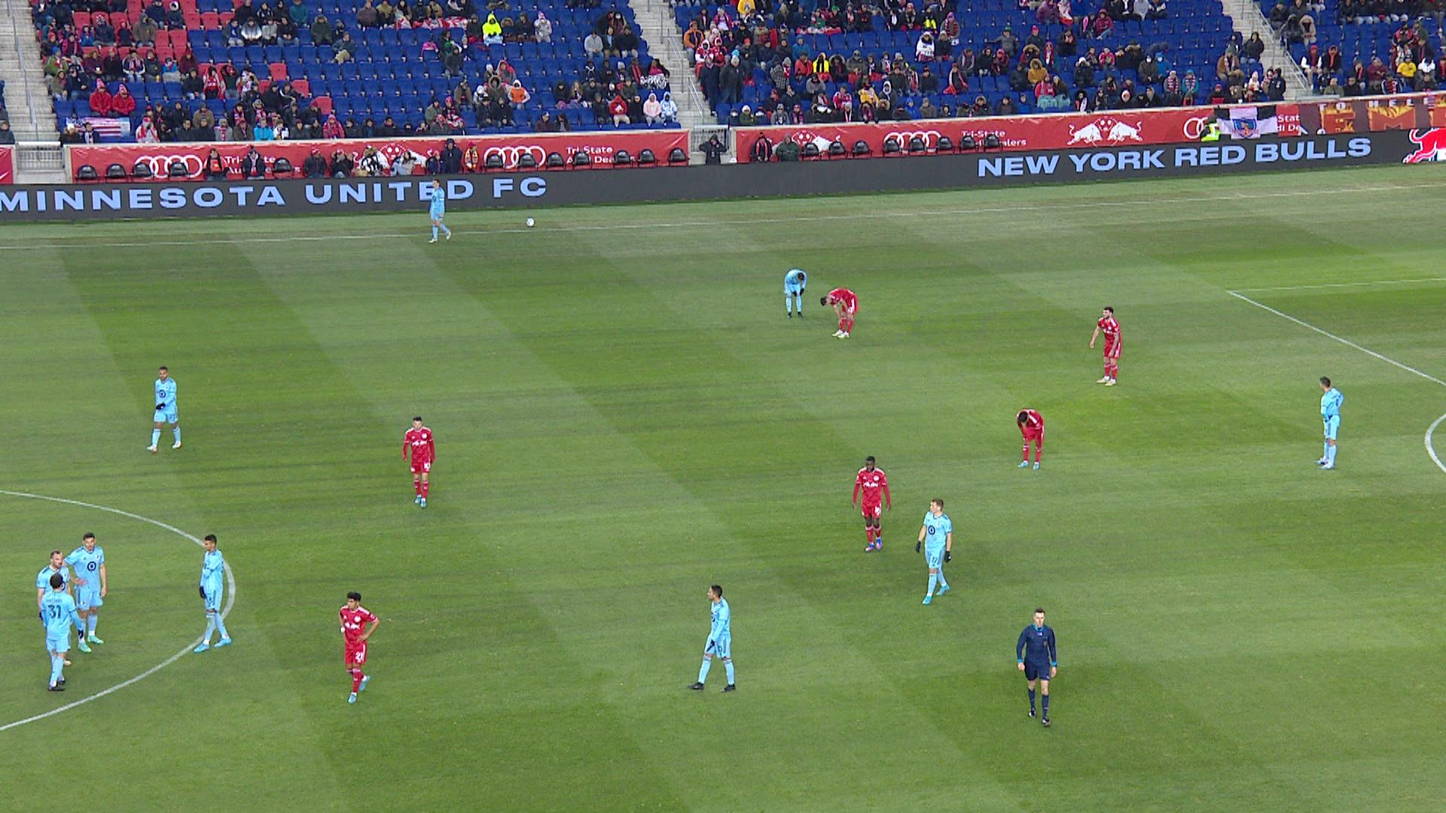Player: (62, 532, 106, 652), (40, 573, 84, 691), (687, 586, 735, 692), (339, 592, 380, 703), (193, 534, 231, 653), (916, 499, 953, 605), (852, 456, 891, 552), (146, 366, 181, 453), (403, 415, 434, 508), (1314, 377, 1344, 470), (36, 550, 71, 620), (1090, 307, 1121, 386), (820, 287, 857, 339), (1016, 408, 1044, 470), (428, 178, 452, 243), (783, 269, 807, 319), (63, 659, 72, 666)
ball: (525, 215, 534, 226)
referee: (1016, 608, 1057, 727)
